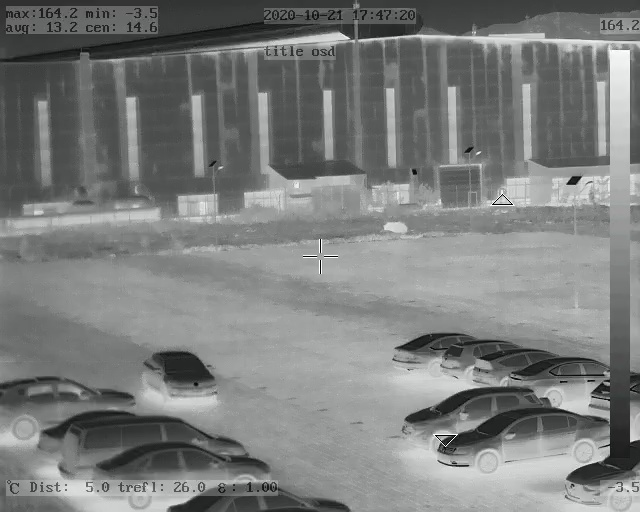vehicle: (92, 446, 272, 507), (438, 407, 608, 470), (61, 415, 246, 471), (2, 376, 130, 439), (403, 386, 525, 440), (501, 355, 613, 405), (169, 486, 381, 512), (564, 441, 640, 508), (141, 346, 217, 403), (393, 329, 449, 370), (465, 348, 517, 385)
